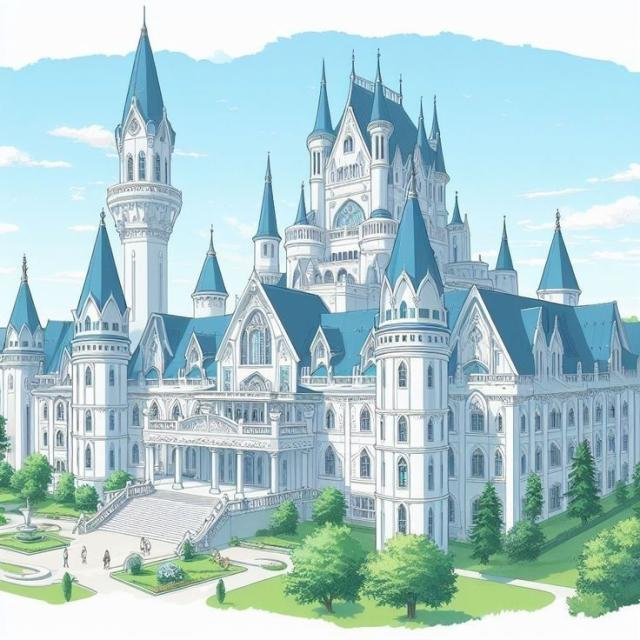castle: (20, 16, 617, 562)
